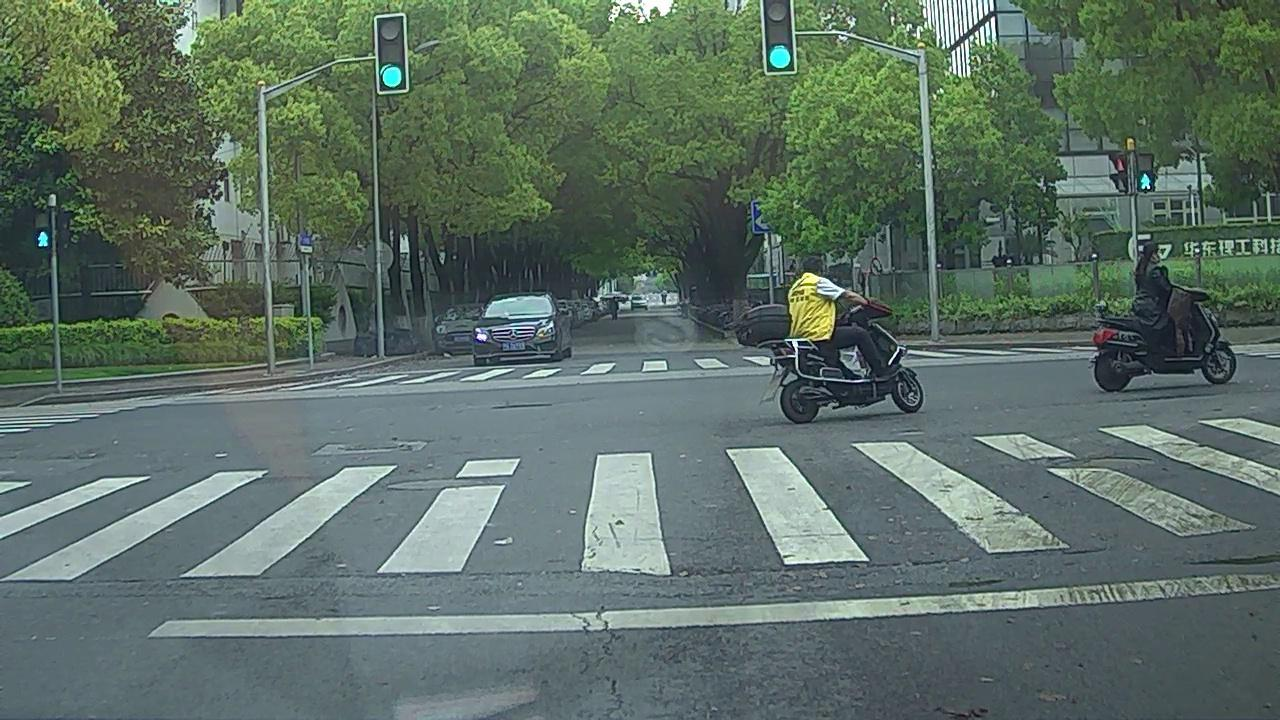traffic_light: (376, 18, 409, 94), (762, 1, 795, 68)
